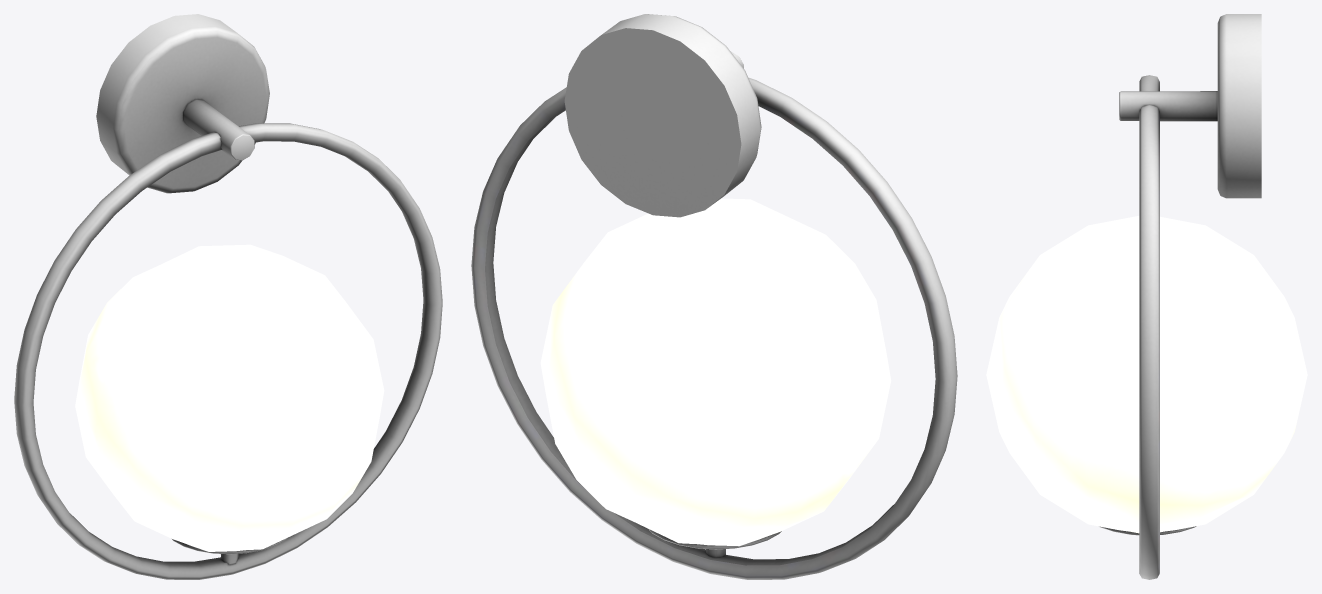
File: wall-lamp-3.glb
3 renders of one model, left to right at view 1: azimuth 30°, elevation 25°; view 2: azimuth 150°, elevation 25°; view 3: azimuth 270°, elevation 25°, orthographic. The views are drawn at different scales.
Visible parts, largest first — view 1: Lamp, Base; view 2: Lamp, Base; view 3: Lamp, Base.
Part boxes in pixels (x1=…): Lamp: x1=75, y1=244, x2=384, y2=551; Base: x1=14, y1=14, x2=442, y2=579; Lamp: x1=540, y1=198, x2=891, y2=546; Base: x1=471, y1=14, x2=957, y2=579; Lamp: x1=986, y1=216, x2=1307, y2=533; Base: x1=1099, y1=14, x2=1261, y2=579.
Size of the model in its own units: 0.2771 by 0.3234 by 0.1763.
Materials: 1 (1 with a texture image).
